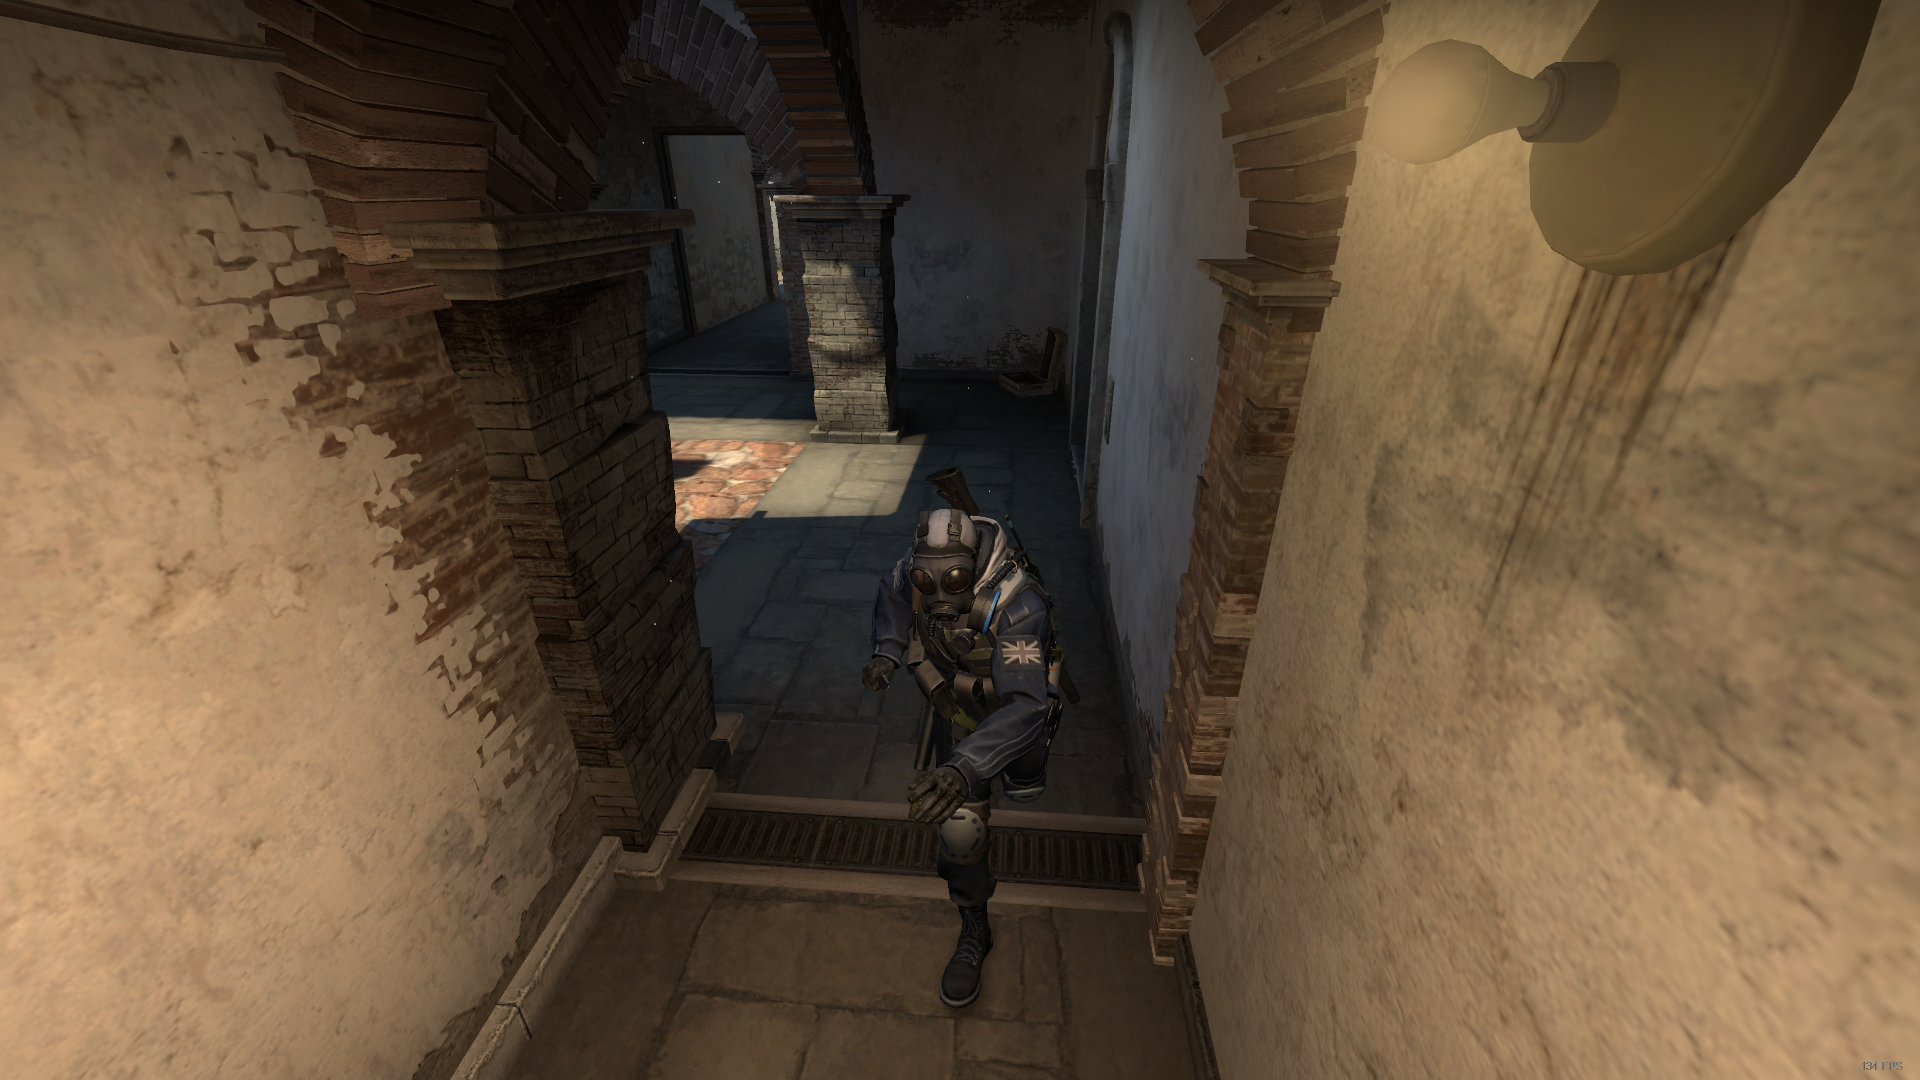ct: (862, 504, 1065, 1015)
